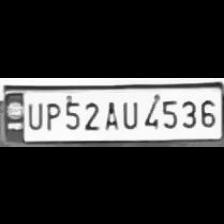2: (81, 96, 101, 130)
3: (179, 96, 197, 128)
4: (140, 94, 160, 128)
5: (61, 96, 80, 130), (158, 96, 178, 128)
6: (196, 95, 218, 127)
A: (100, 96, 119, 130)
P: (41, 97, 60, 129)
U: (118, 96, 140, 128), (25, 97, 43, 129)
